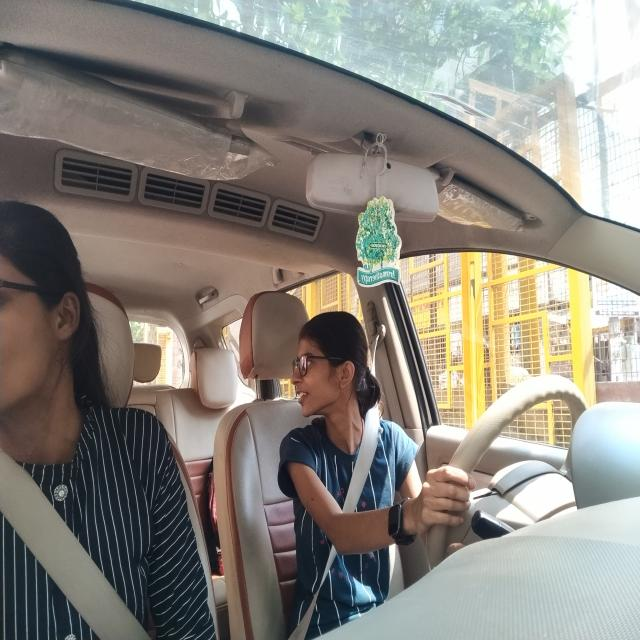LeftRight: (288, 308, 376, 434)
person: (1, 197, 88, 442)
talking: (296, 386, 311, 407)
